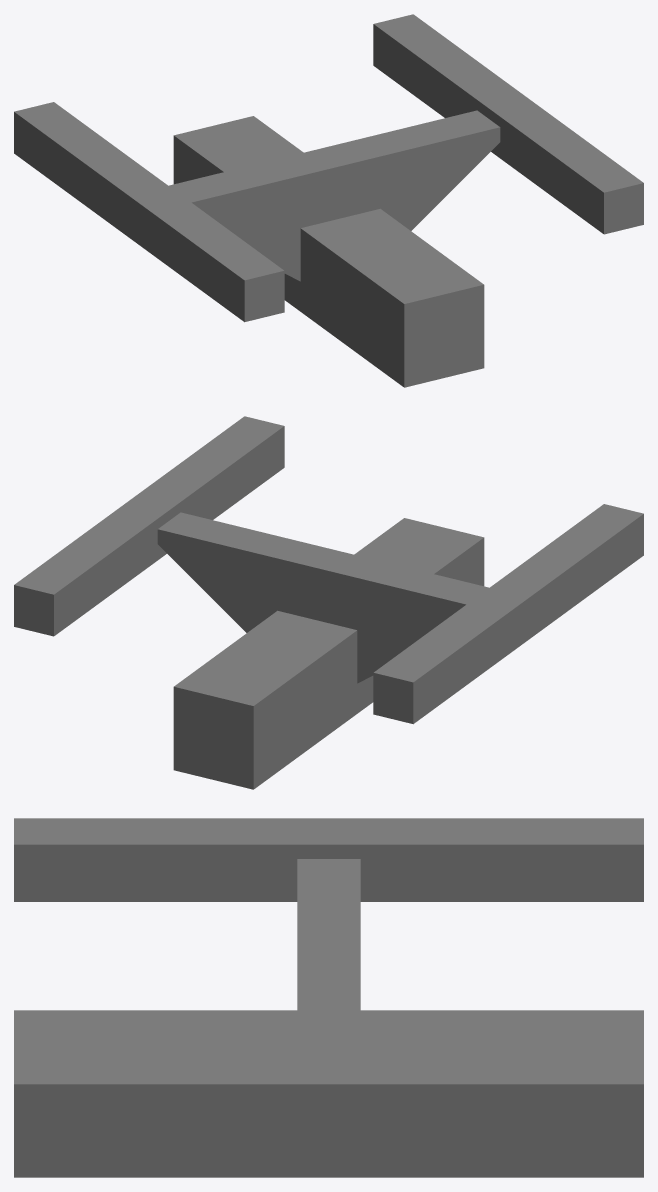
File: BOX.ICO.obj
The picture shows the model from 3 angles, top to bottom: view 1: azimuth 30°, elevation 25°; view 2: azimuth 150°, elevation 25°; view 3: azimuth 270°, elevation 25°; orthographic projection. The views are drawn at different scales.
Size of the model in its own units: 5 by 1.75 by 5.
